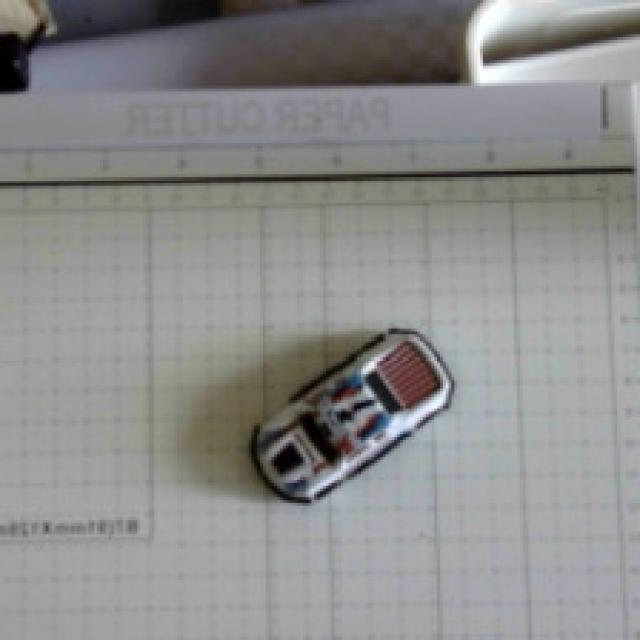Grey Car: (192, 312, 485, 522)
